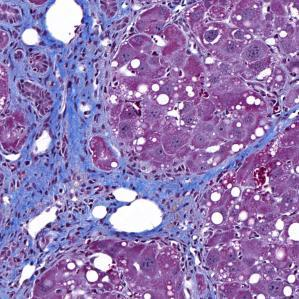fibrosis: (10, 75, 111, 244), (132, 165, 211, 221)
